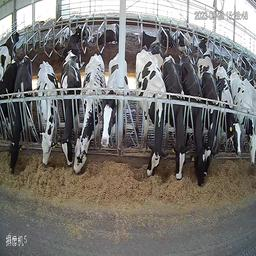cow: (72, 54, 106, 172), (136, 48, 166, 177), (179, 55, 208, 188), (161, 57, 185, 181), (98, 53, 129, 148), (59, 53, 82, 168), (11, 56, 33, 176), (35, 59, 59, 168), (214, 63, 241, 159), (230, 70, 255, 169), (199, 68, 219, 155), (62, 25, 87, 69), (196, 36, 214, 77), (141, 28, 163, 55), (98, 21, 118, 47), (171, 29, 192, 51), (158, 23, 171, 49), (57, 24, 72, 46)
